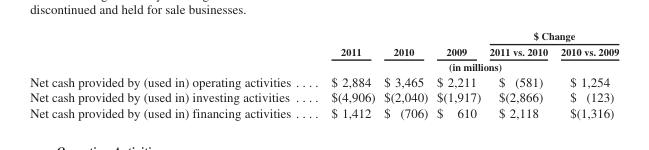table: (29, 29, 618, 119)
table column: (29, 29, 310, 119), (484, 29, 553, 119), (310, 29, 378, 119), (553, 29, 618, 119), (378, 29, 431, 119), (431, 29, 484, 119)
table column header: (29, 29, 618, 73)
table row: (29, 88, 618, 104), (29, 43, 618, 58), (29, 58, 618, 73), (29, 73, 618, 88), (29, 104, 618, 119), (29, 29, 618, 43)
table spanning cell: (310, 58, 618, 73), (310, 29, 378, 58), (484, 29, 618, 43), (378, 29, 431, 58), (431, 29, 484, 58)
